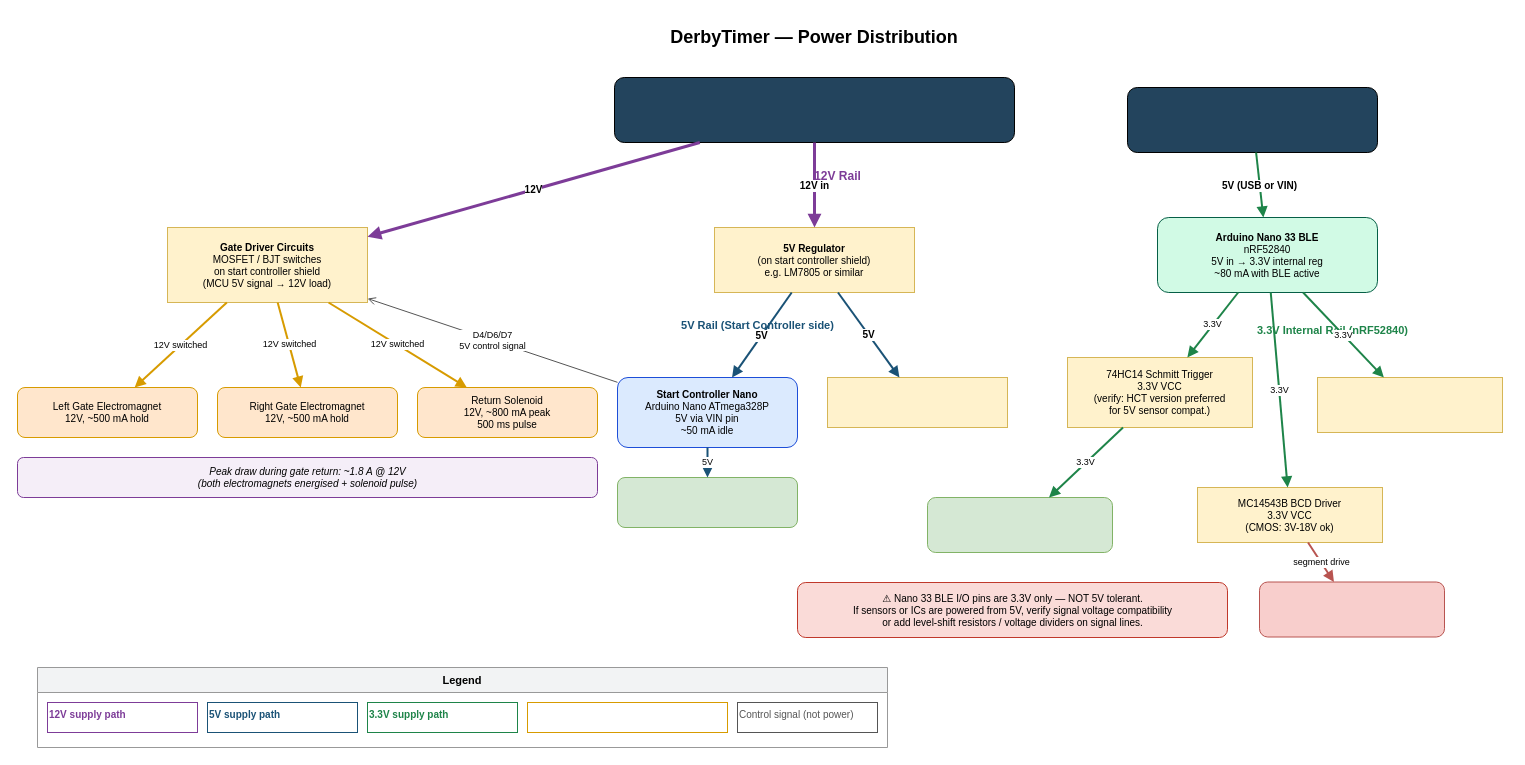
Some shapes in this 1525 by 765 pixel diagram are drawn without their labels. Here are the shapes that lost their labels. From the top down, the centre of each, then its label:
At (814,109): "External Power Supply 12V DC, ~2A minimum (barrel jack on shield)".
At (1252,119): "Finish Controller Power USB 5V (programming / bench) or external 5V via VIN".
At (917,402): "74HC595 Shift Register 5V VCC ~20 mA".
At (1409,404): "74HC238 Demux (x2) 3.3V VCC (HC family: 2V-6V ok)".
At (707,502): "Button Pull-up Resistors 5V reference (ext pull-up on D18, D19)".
At (1019,524): "SE61 Optical Sensors (x2) 3.3V VCC (verify sensor Vcc range)".
At (1351,609): "7-Segment Displays (x2) Driven by BCD IC segments (LED forward voltage ~2V)".
At (627,717): "Switched 12V (actuators)".
